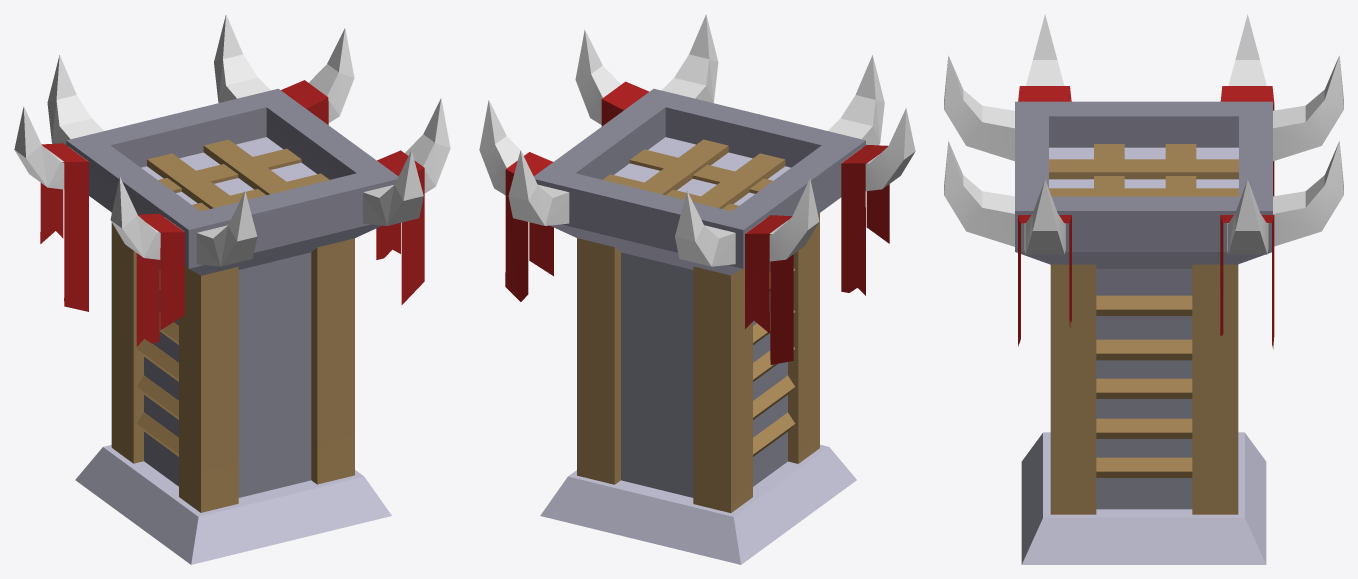
The model's file is Hell Tower 01.FBX.
The picture shows the model from 3 angles, left to right: view 1: azimuth 30°, elevation 25°; view 2: azimuth 150°, elevation 25°; view 3: azimuth 270°, elevation 25°; orthographic projection. The views are drawn at different scales.
Size of the model in its own units: 327 by 376 by 327.
